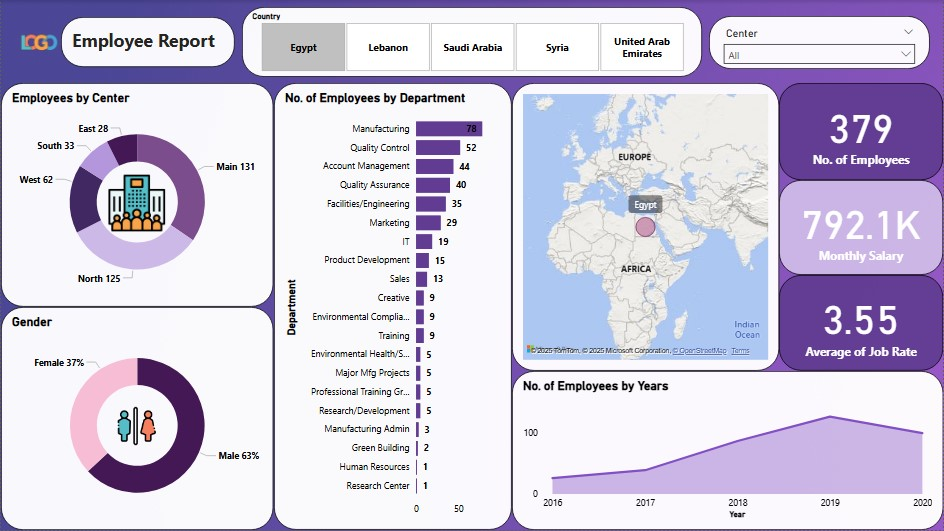

This screenshot's page, from the dashboard's own definition file:
{"tool":"powerbi","page":{"name":"Employees Report DashBoard","canvas":[1280,720],"ordinal":0},"visuals":[{"type":"clusteredBarChart","title":"No. of Employees by Department","fields":{"Category":["Employees.Department"],"Y":["CountNonNull(Employees.No)"]},"box":[370.2,112.9,323.4,607],"z":0},{"type":"donutChart","title":"Employees by Center","fields":{"Category":["Employees.Center"],"Y":["CountNonNull(Employees.No)"]},"box":[0,112.9,370.2,304.2],"z":1000},{"type":"donutChart","title":"Gender","fields":{"Category":["Employees.Gender"],"Y":["CountNonNull(Employees.Gender)"]},"box":[0,417,370.2,302.8],"z":2000},{"type":"map","fields":{"Category":["Employees.Country"]},"box":[694.2,112.8,362.7,391.2],"z":3000},{"type":"areaChart","title":"No. of Employees by Years","fields":{"Category":["Employees.Start Date.Variation.Date Hierarchy.Year","Employees.Start Date.Variation.Date Hierarchy.Quarter","Employees.Start Date.Variation.Date Hierarchy.Month","Employees.Start Date.Variation.Date Hierarchy.Day"],"Y":["CountNonNull(Employees.No)"]},"box":[694.2,504,585.5,216],"z":4000},{"type":"card","fields":{"Values":["CountNonNull(Employees.No)"]},"box":[1056.9,112.8,222.8,131.8],"z":5000},{"type":"card","fields":{"Values":["Sum(Employees.Monthly Salary)"]},"box":[1056.9,244.5,222.8,129.1],"z":6000},{"type":"card","fields":{"Values":["Avg(Employees.Job Rate)"]},"box":[1056.9,373.6,222.8,130.4],"z":7000},{"type":"slicer","fields":{"Values":["Employees.Country"]},"box":[327.6,9.6,624.9,95],"z":8000},{"type":"slicer","fields":{"Values":["Employees.Center"]},"box":[962.1,22,300,71.6],"z":9000},{"type":"textbox","box":[81.5,23.1,236.4,67.9],"z":10000},{"type":"image","box":[12.4,39.9,78.5,35.8],"z":11000},{"type":"image","box":[153.5,544.8,62.5,67.9],"z":12000},{"type":"image","box":[125,232.3,118.2,86.9],"z":13000}]}

Visuals, with their boxes in screenshot pixels (x1, y1, x2, y2), scaled from the page's 1280x720 canvas onto the 944x531 screenshot:
"No. of Employees by Department" clusteredBarChart: x1=273, y1=83, x2=512, y2=530
"Employees by Center" donutChart: x1=0, y1=83, x2=273, y2=308
"Gender" donutChart: x1=0, y1=308, x2=273, y2=530
map - Employees.Country: x1=512, y1=83, x2=779, y2=372
"No. of Employees by Years" areaChart: x1=512, y1=372, x2=943, y2=530
card - CountNonNull(Employees.No): x1=779, y1=83, x2=943, y2=180
card - Sum(Employees.Monthly Salary): x1=779, y1=180, x2=943, y2=276
card - Avg(Employees.Job Rate): x1=779, y1=276, x2=943, y2=372
slicer - Employees.Country: x1=242, y1=7, x2=702, y2=77
slicer - Employees.Center: x1=710, y1=16, x2=931, y2=69
textbox: x1=60, y1=17, x2=234, y2=67
image: x1=9, y1=29, x2=67, y2=56
image: x1=113, y1=402, x2=159, y2=452
image: x1=92, y1=171, x2=179, y2=235
